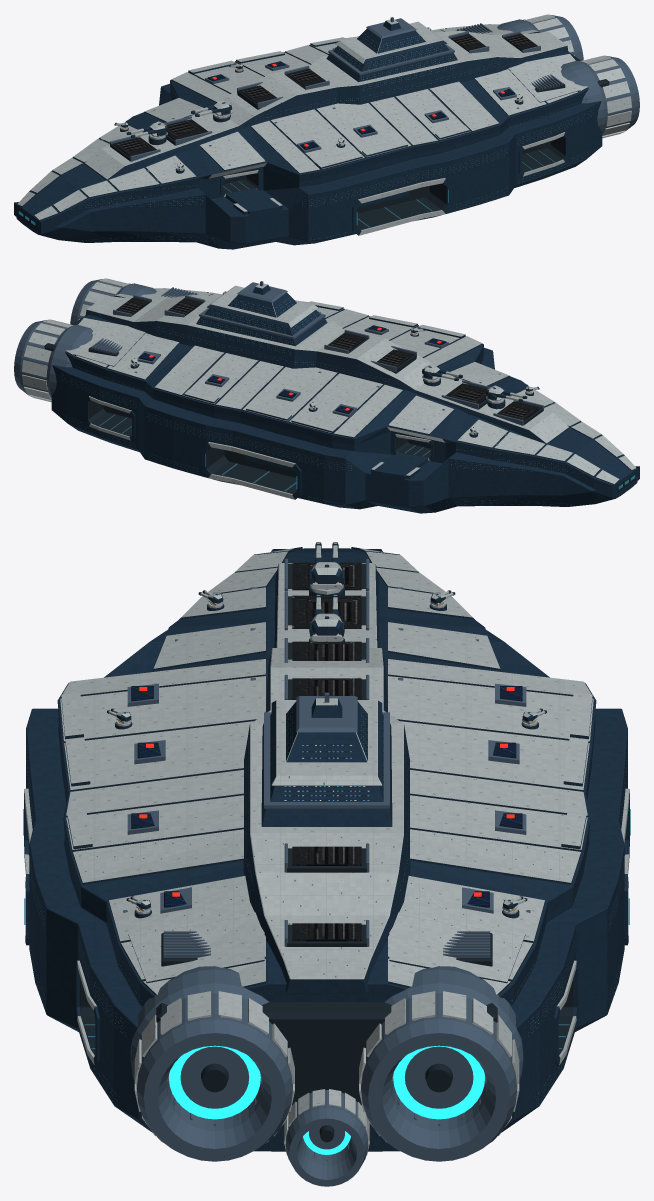
Rendered from concord-carrier.glb.
3 renders of one model, top to bottom at view 1: azimuth 30°, elevation 25°; view 2: azimuth 150°, elevation 25°; view 3: azimuth 270°, elevation 25°, orthographic. The views are drawn at different scales.
Parts seen in each view (by area): view 1: Carrier hull · refined hangars and fitted seats; view 2: Carrier hull · refined hangars and fitted seats; view 3: Carrier hull · refined hangars and fitted seats, Battery_02_pitch_armor.
Part boxes in pixels (bbox=[...]): Carrier hull · refined hangars and fitted seats: bbox=[14, 14, 639, 249]; Carrier hull · refined hangars and fitted seats: bbox=[14, 278, 639, 513]; Carrier hull · refined hangars and fitted seats: bbox=[23, 547, 630, 1186]; Battery_02_pitch_armor: bbox=[311, 594, 342, 635].
Size of the model in its own units: 2 by 0.5574 by 0.9265.
10 materials, 5 textured.
